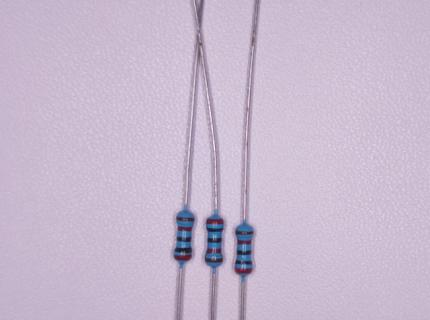Black band: (174, 247, 192, 253), (177, 236, 191, 242), (237, 250, 251, 255), (235, 261, 252, 265), (208, 238, 221, 243), (207, 228, 223, 231)
Brown band: (176, 217, 194, 221), (205, 258, 223, 262), (236, 231, 254, 235)
Red band: (206, 219, 224, 224), (174, 255, 192, 260), (235, 268, 252, 273), (237, 239, 251, 245), (177, 226, 192, 231), (206, 249, 222, 253)
